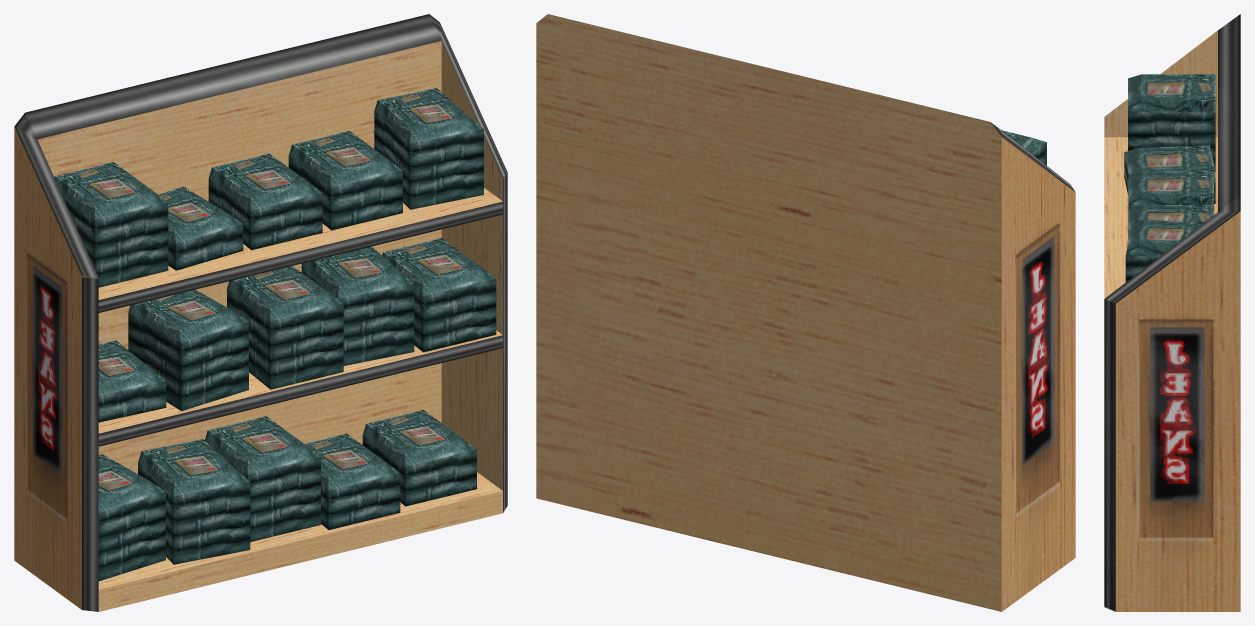
Rendered from jeanshelves2.fbx.
3 views of the same model, side by side, from view 1: azimuth 30°, elevation 25°; view 2: azimuth 150°, elevation 25°; view 3: azimuth 270°, elevation 25° (orthographic). The views are drawn at different scales.
Visible parts, largest first — view 1: mesh_0; view 2: mesh_0; view 3: mesh_0.
Part boxes in pixels (left/top/right/bottom): mesh_0: left=14, top=14, right=507, bottom=611; mesh_0: left=536, top=14, right=1075, bottom=611; mesh_0: left=1104, top=14, right=1240, bottom=611.
Size of the model in its own units: 160 by 160 by 47.89.
1 material, 1 textured.
